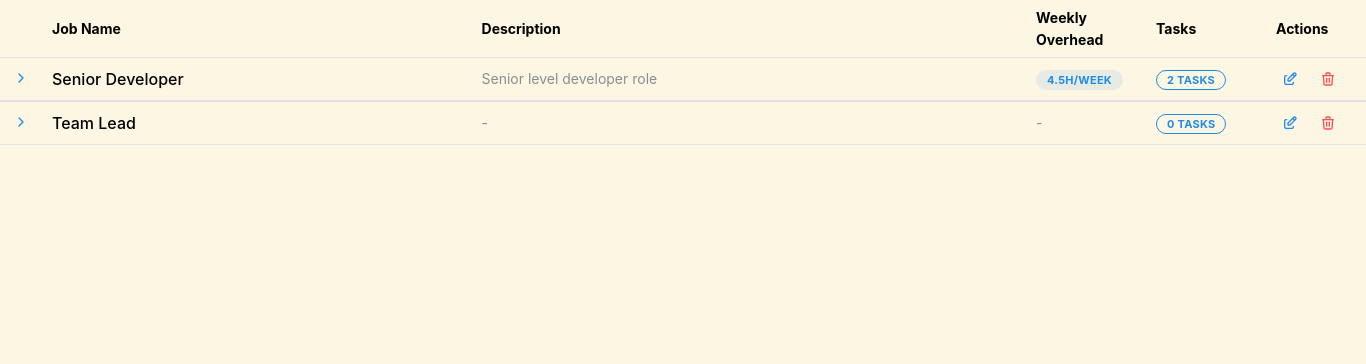
Test case: JobExpandableTable › shows task details when job is expanded
// Expand first job
Click the text "Senior Developer" at {"x": 118, "y": 79}, box [52,69,184,89]
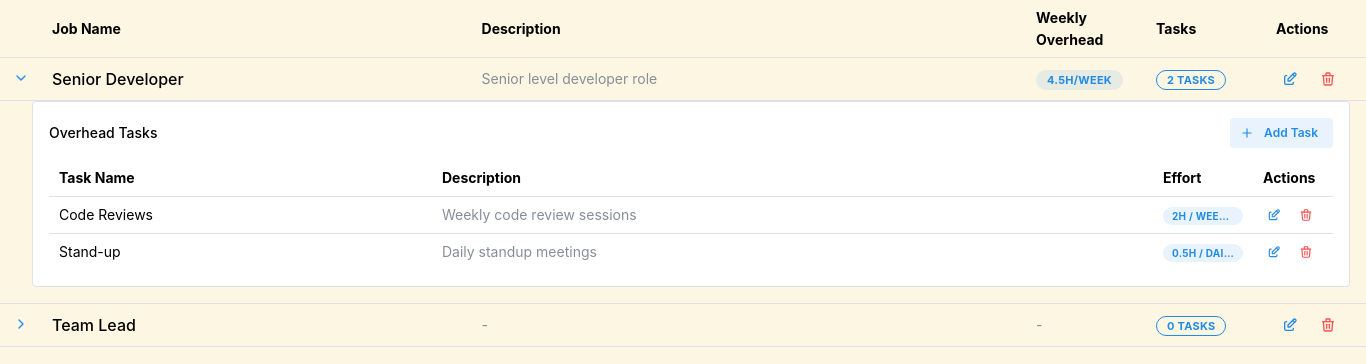
Check: the button "Add Task" is shown, box [1230,118,1333,148]
